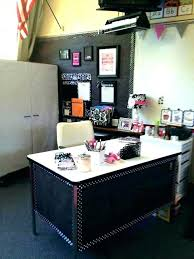desk_085.jpg: (19, 126, 189, 251)
